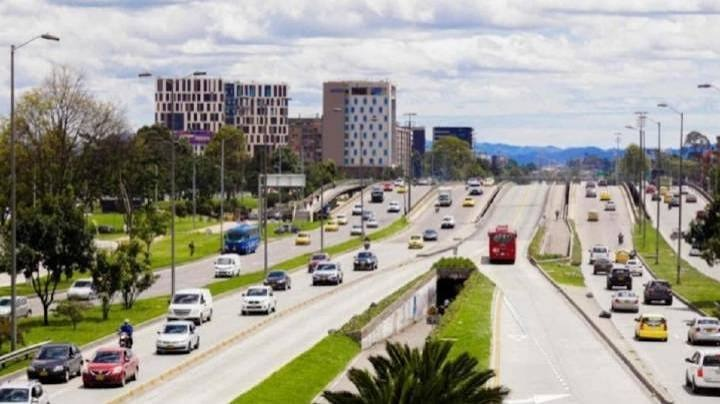car: (83, 183, 660, 356), (53, 205, 552, 389), (196, 169, 680, 282), (330, 251, 491, 398), (77, 342, 133, 389), (157, 299, 208, 349), (20, 343, 80, 384), (162, 292, 208, 336), (148, 320, 201, 354), (605, 266, 642, 309), (634, 306, 675, 341), (486, 224, 516, 263)
